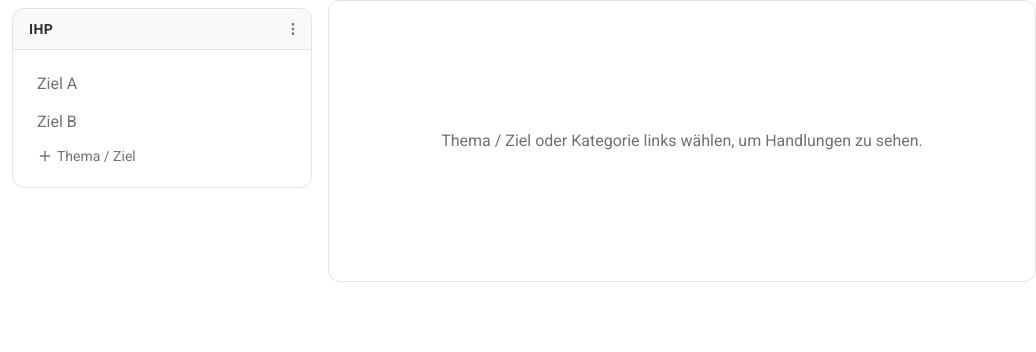
Test: AssessmentOutline planning master-detail › zeigt nur das gewählte Ziel mit seinen Handlungen
Click the button "Ziel A".
click(57, 84)  # box [29, 66, 295, 102]
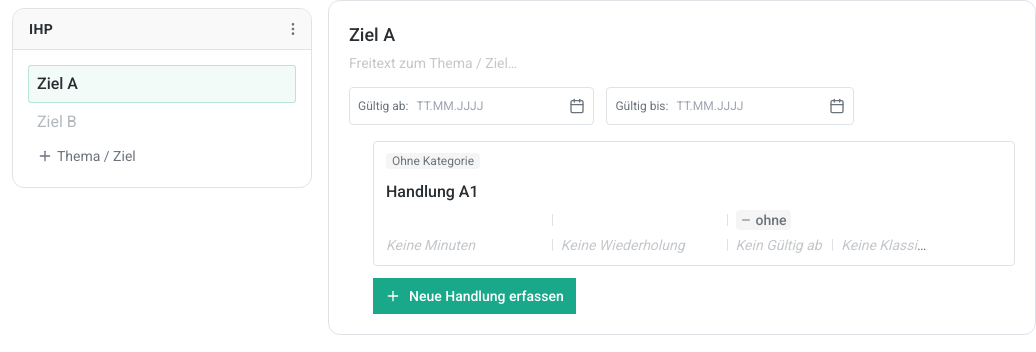
expect the text "Handlung A1" is shown: met, box [386, 180, 478, 204]
